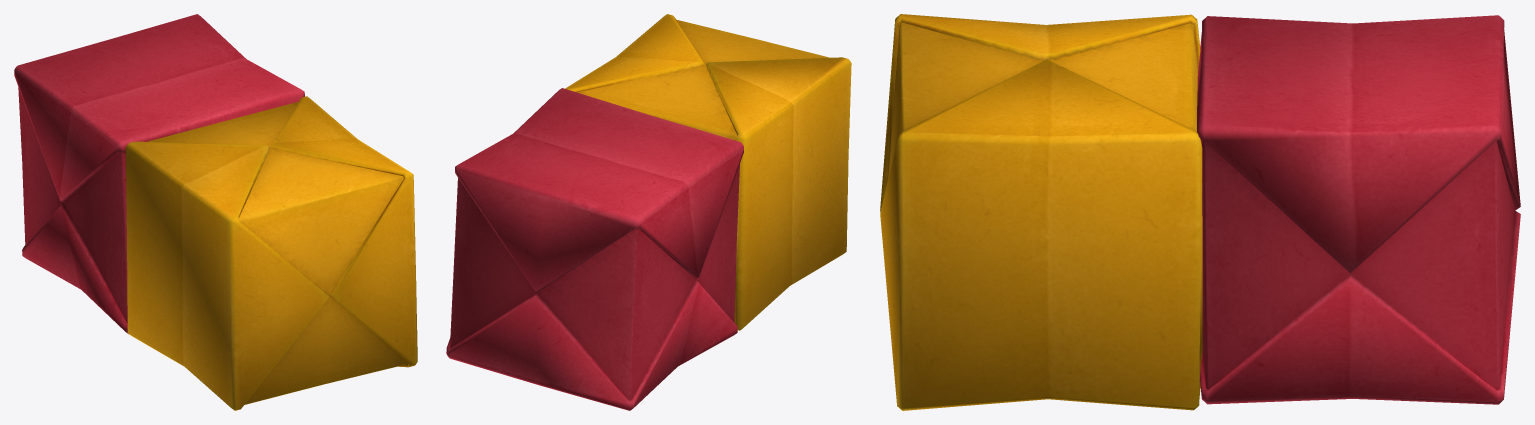
The model's file is hl_column_paper_medium.fbx.
The picture shows the model from 3 angles, left to right: view 1: azimuth 30°, elevation 25°; view 2: azimuth 150°, elevation 25°; view 3: azimuth 270°, elevation 25°; orthographic projection. The views are drawn at different scales.
Visible parts, largest first — view 1: hl_column_paper_medium; view 2: hl_column_paper_medium; view 3: hl_column_paper_medium.
Part boxes in pixels (x1=…): hl_column_paper_medium: x1=14, y1=14, x2=417, y2=410; hl_column_paper_medium: x1=446, y1=14, x2=851, y2=410; hl_column_paper_medium: x1=880, y1=14, x2=1520, y2=410.
Bounding box in the file's own units: 11.31 × 11.31 × 21.49.
